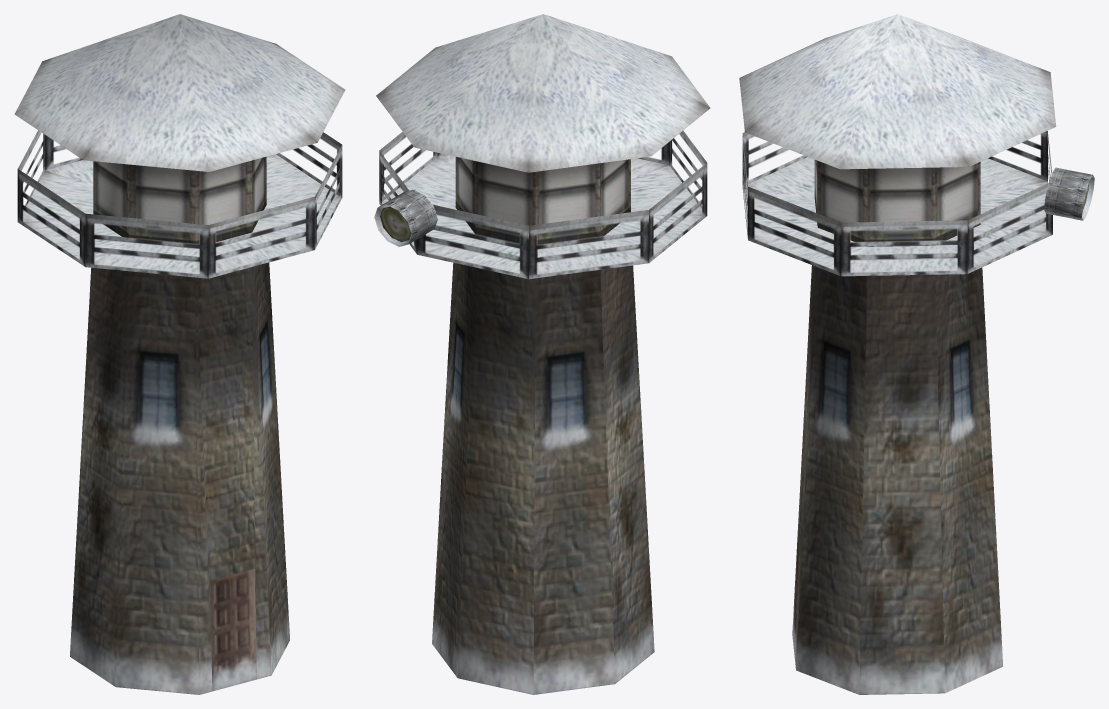
Rendered from Environment - Prop - TOWER 2 - Snow - PMTOWER2_S.glb.
The picture shows the model from 3 angles, left to right: view 1: azimuth 30°, elevation 25°; view 2: azimuth 150°, elevation 25°; view 3: azimuth 270°, elevation 25°; orthographic projection.
Visible parts, largest first — view 1: PMTOWER2_S; view 2: PMTOWER2_S; view 3: PMTOWER2_S.
Part boxes in pixels (x1,y1,x2,y2): PMTOWER2_S: (14, 14, 345, 694); PMTOWER2_S: (374, 14, 710, 694); PMTOWER2_S: (739, 14, 1094, 694).
Bounding box in the file's own units: 33.42 × 74.03 × 37.48.
1 material, 1 textured.
